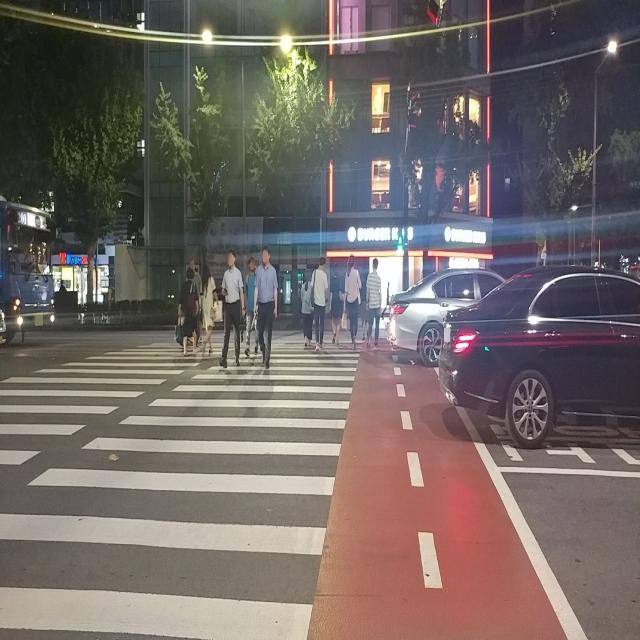초록불: (397, 226, 404, 250)
횡단보도: (0, 323, 368, 640)
